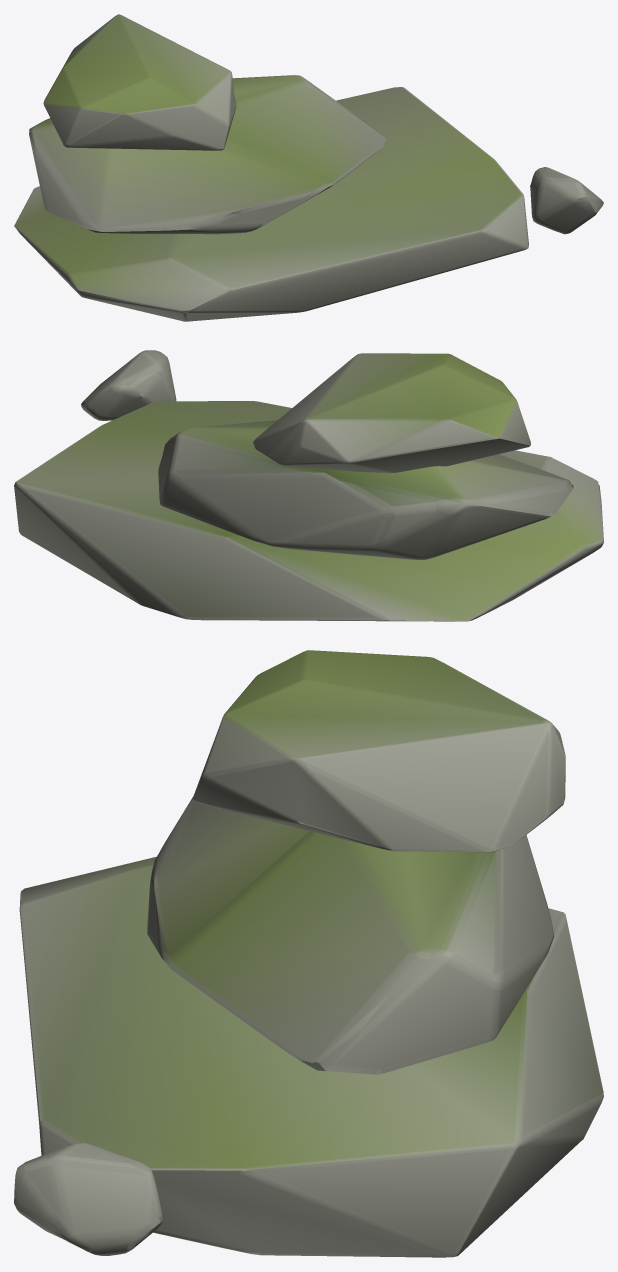
Rendered from moss-boulder-b.glb.
3 renders of one model, top to bottom at view 1: azimuth 30°, elevation 25°; view 2: azimuth 150°, elevation 25°; view 3: azimuth 270°, elevation 25°, orthographic. The views are drawn at different scales.
Visible parts, largest first — view 1: moss-boulder-b; view 2: moss-boulder-b; view 3: moss-boulder-b.
Part boxes in pixels (x1,y1,x2,y2): moss-boulder-b: (14,14,603,321); moss-boulder-b: (14,350,603,621); moss-boulder-b: (14,650,603,1257).
Size of the model in its own units: 2.25 by 0.8812 by 1.47.
